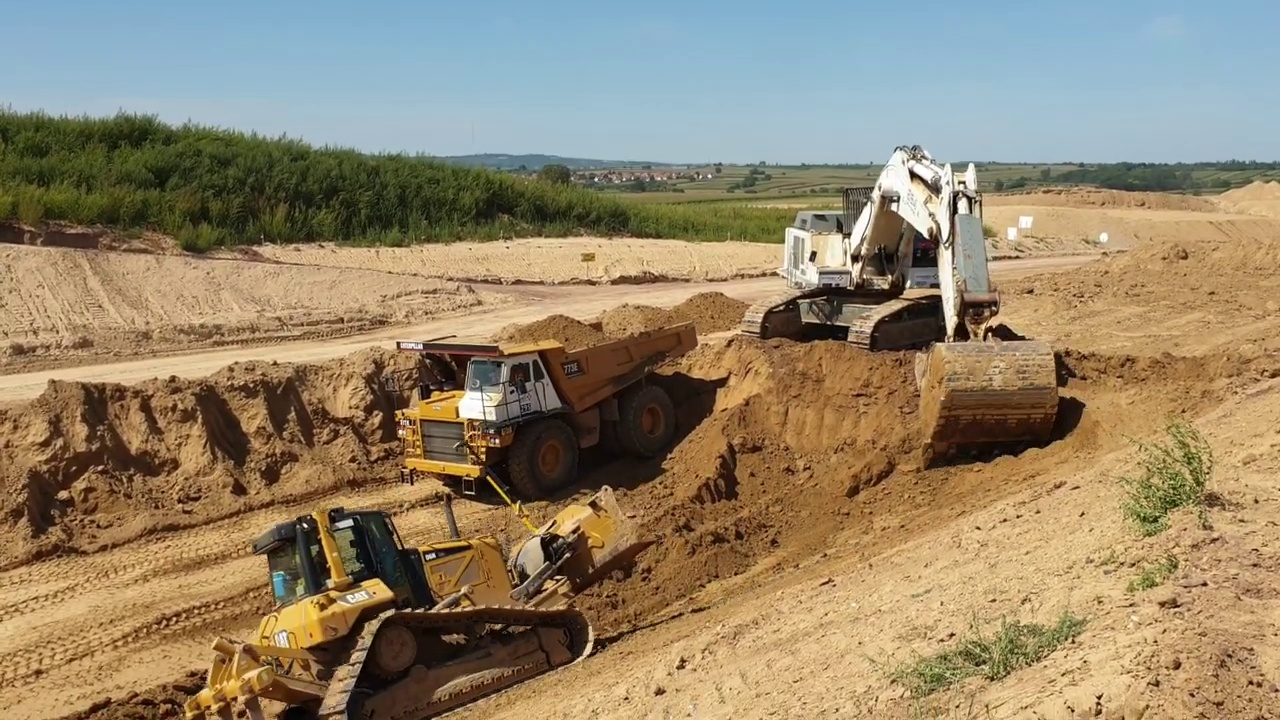bulldozer: (180, 441, 649, 720)
excavator: (739, 140, 1063, 474)
truck: (394, 317, 704, 503)
